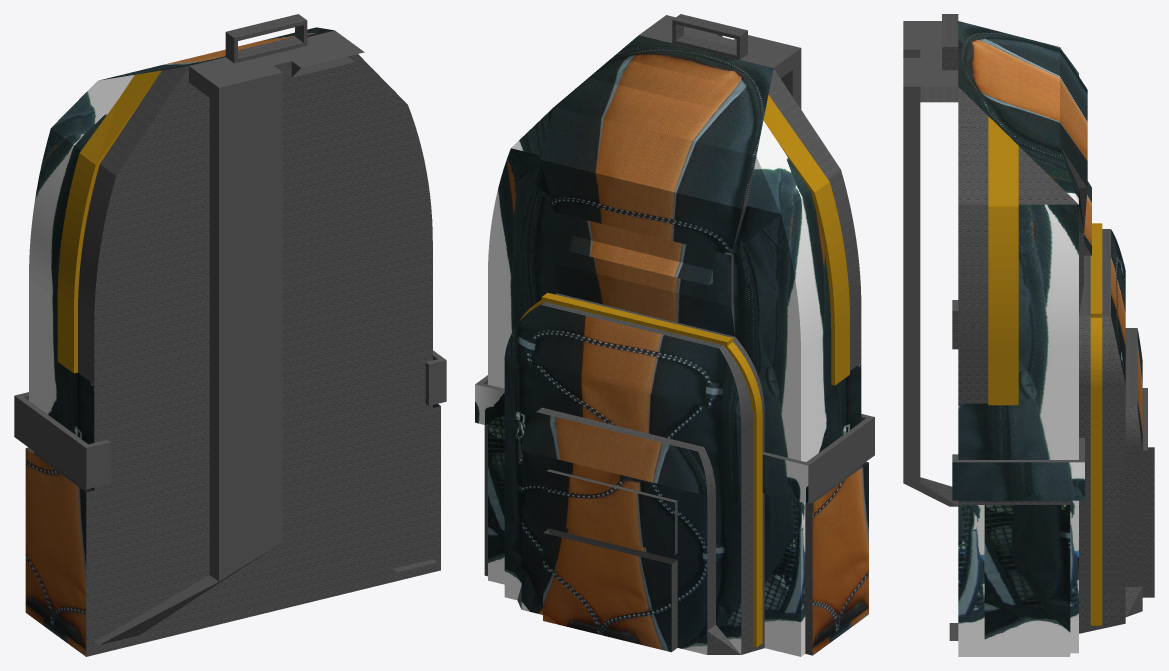
The model's file is backpack.dae.
The picture shows the model from 3 angles, left to right: view 1: azimuth 30°, elevation 25°; view 2: azimuth 150°, elevation 25°; view 3: azimuth 270°, elevation 25°; orthographic projection. The views are drawn at different scales.
Visible parts, largest first — view 1: SketchUp (×8); view 2: SketchUp (×17); view 3: SketchUp (×16).
Part boxes in pixels (bbox=[...]): SketchUp (×8): bbox=[14, 14, 446, 656]; SketchUp (×17): bbox=[475, 14, 874, 656]; SketchUp (×16): bbox=[903, 14, 1154, 656].
Size of the model in its own units: 176 by 115 by 275.
Materials: 4 (2 with a texture image).
